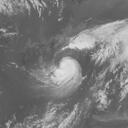cyclone: (37, 19, 127, 126)
